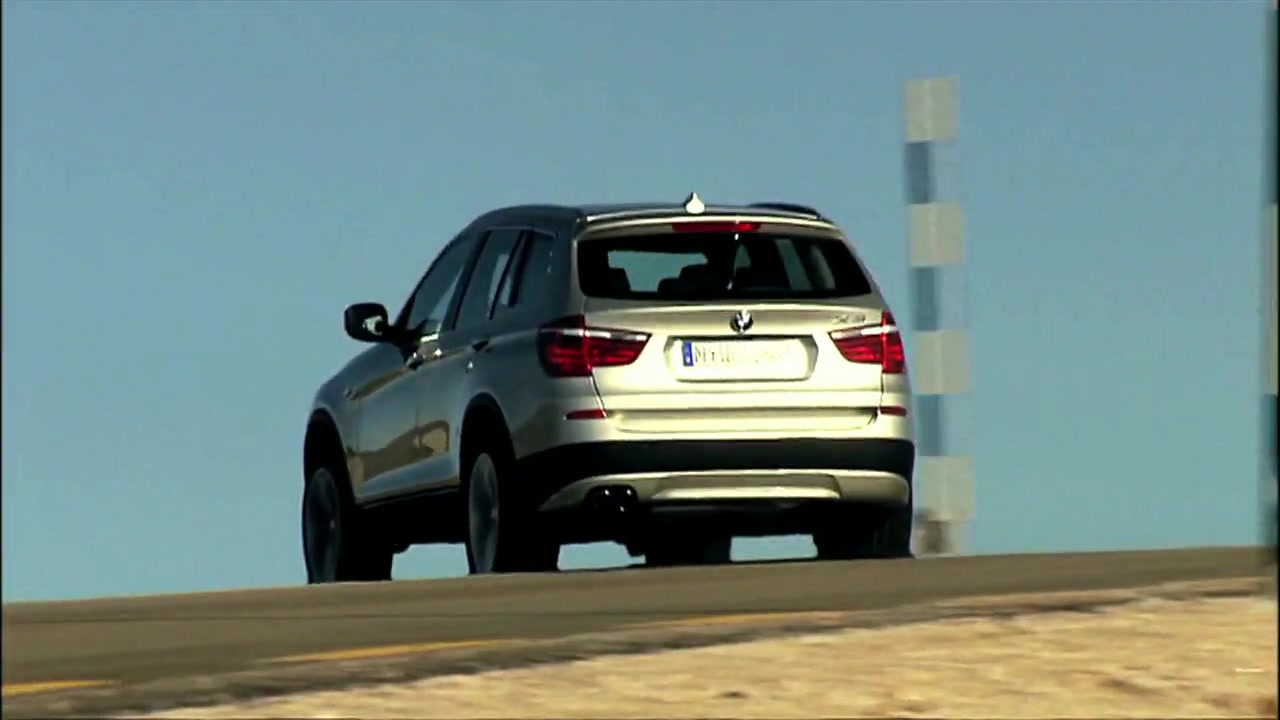car: (301, 197, 918, 591)
